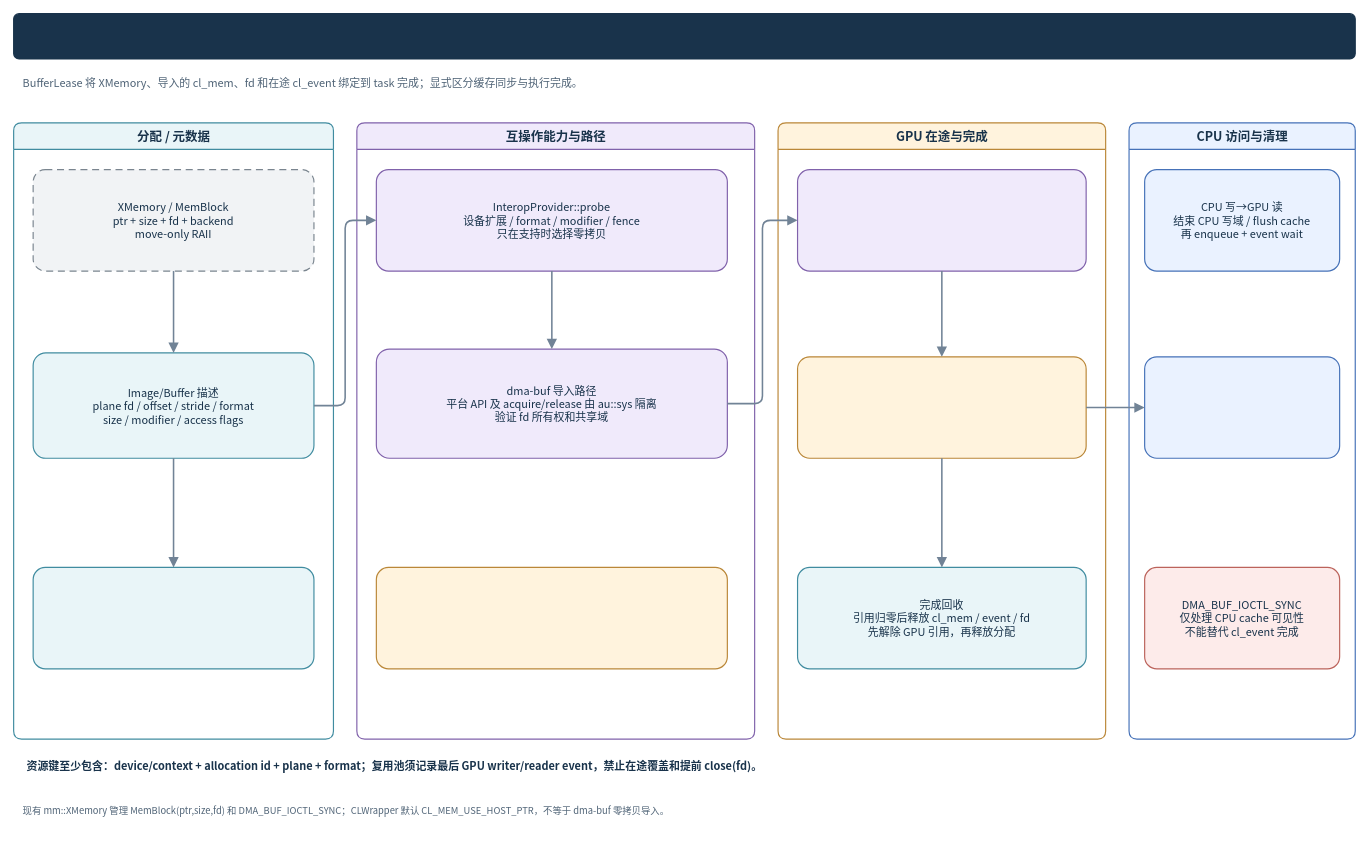
Some shapes in this 1370 by 842 pixel diagram are drawn without their labels. Each missing label, with the centre of its shape:
05 OpenCL 内存与生命周期: point 684,36
BufferLease 持有 XMemory/导入对象和依赖 event 最后一个异步使用完成后释放: point 173,618
event terminal / fence 完成 处理负状态；必要时 acquire/release 通知所有依赖消费者: point 941,407
GPU 写→CPU 读 先等 event/fence terminal 再 invalidate cache / map: point 1242,407
submit(kernel, leases, waitEvents) 入队成功产生 cl_event 标记资源 GPU_IN_FLIGHT: point 941,220
便携回退路径 普通 cl_mem + 显式拷贝/映射 macOS 或不支持导入的设备: point 551,618
